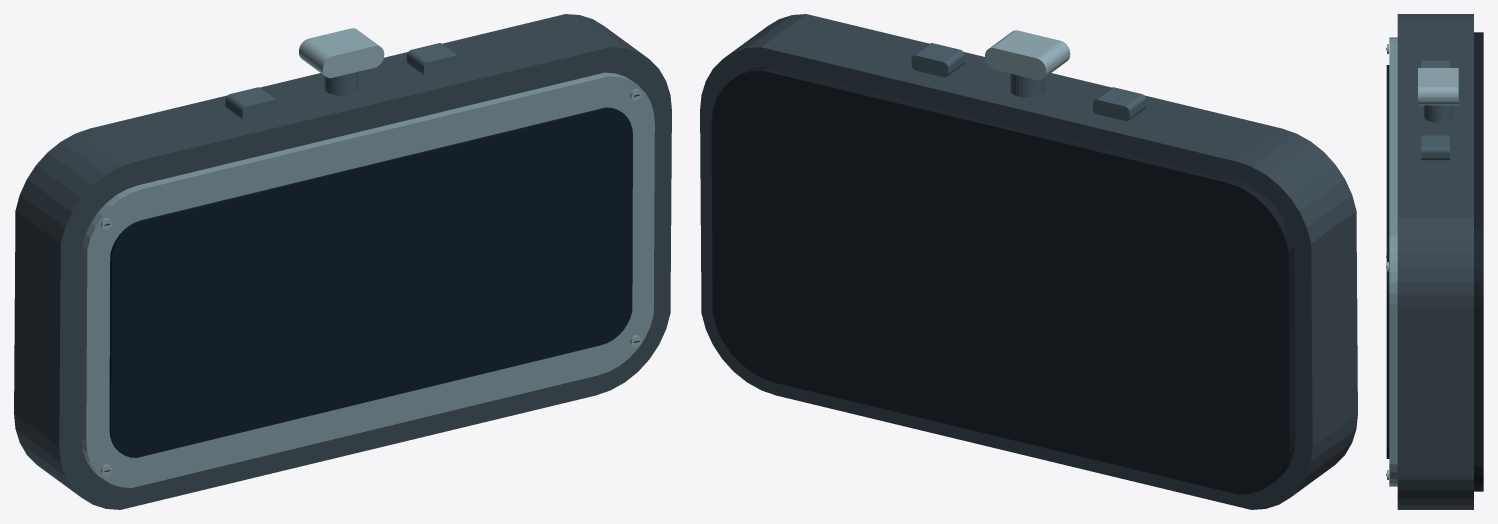
The model's file is SpaceGamble_StopwatchCounter.obj.
3 views of the same model, side by side, from view 1: azimuth 30°, elevation 25°; view 2: azimuth 150°, elevation 25°; view 3: azimuth 270°, elevation 25° (orthographic). The views are drawn at different scales.
Parts seen in each view (by area): view 1: DisplayGlass, MainCase, FrontBezel, StopwatchPusher, TopControl_Right, TopControl_Left; view 2: RearCover, MainCase, StopwatchPusher, TopControl_Right, TopControl_Left; view 3: MainCase, RearCover, FrontBezel, StopwatchPusher, DisplayGlass, TopControl_Right, StopwatchStem, TopControl_Left.
Part boxes in pixels (<box>): DisplayGlass: <box>109,107,632,457</box>; MainCase: <box>14,14,671,509</box>; FrontBezel: <box>81,72,654,487</box>; StopwatchPusher: <box>299,28,384,78</box>; TopControl_Right: <box>406,43,460,77</box>; TopControl_Left: <box>225,87,279,121</box>; RearCover: <box>711,66,1295,494</box>; MainCase: <box>700,14,1357,509</box>; StopwatchPusher: <box>985,30,1070,80</box>; TopControl_Right: <box>911,43,965,77</box>; TopControl_Left: <box>1092,87,1146,121</box>; MainCase: <box>1397,14,1473,509</box>; RearCover: <box>1474,32,1483,491</box>; FrontBezel: <box>1389,37,1397,486</box>; StopwatchPusher: <box>1418,68,1458,105</box>; DisplayGlass: <box>1386,65,1389,458</box>; TopControl_Right: <box>1421,135,1449,160</box>; StopwatchStem: <box>1424,105,1452,122</box>; TopControl_Left: <box>1421,60,1449,67</box>.
Size of the model in its own units: 0.5 by 0.3055 by 0.0814.
